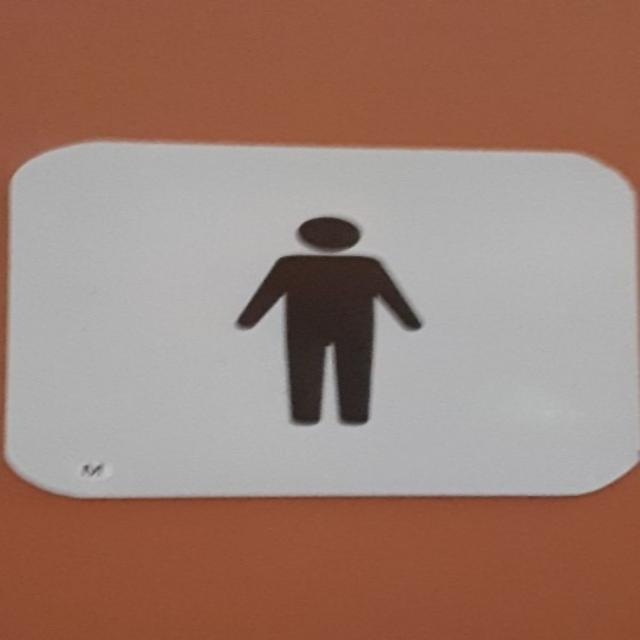mens_restroom: (6, 141, 637, 496)
